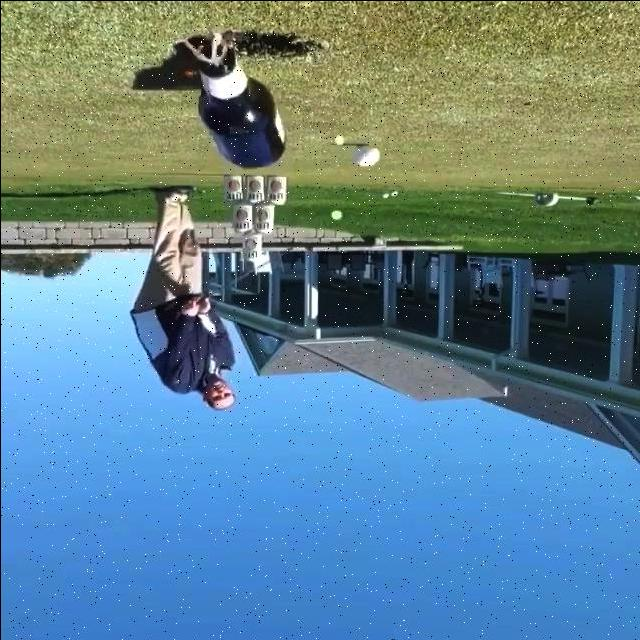golf ball: (350, 143, 378, 168), (331, 133, 344, 144), (329, 210, 342, 219), (378, 191, 388, 198), (390, 189, 399, 194)
golf club-handle: (195, 239, 313, 306)
golf club-head: (285, 241, 312, 252)
